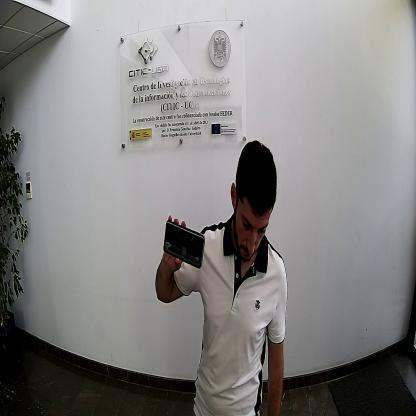smartphone: (163, 219, 205, 270)
